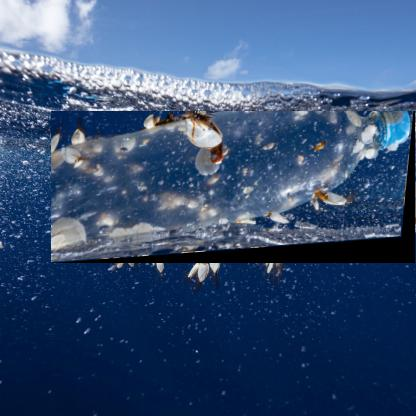bottle: (51, 111, 415, 265)
